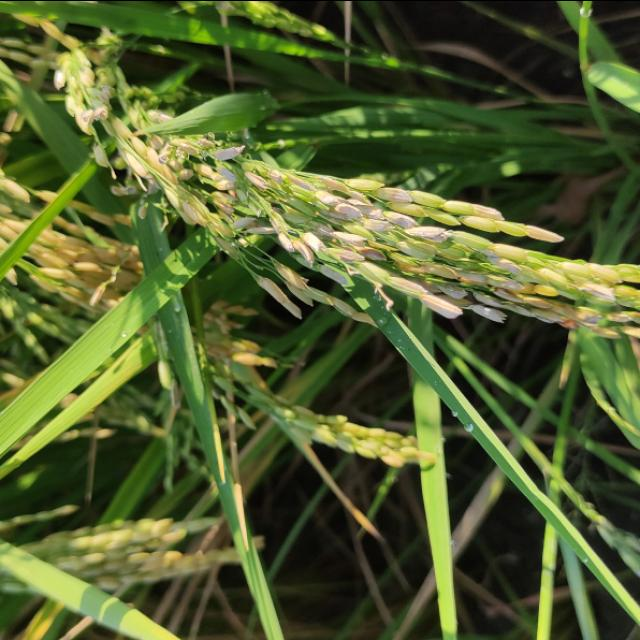Brown spot: (554, 339, 580, 392)
